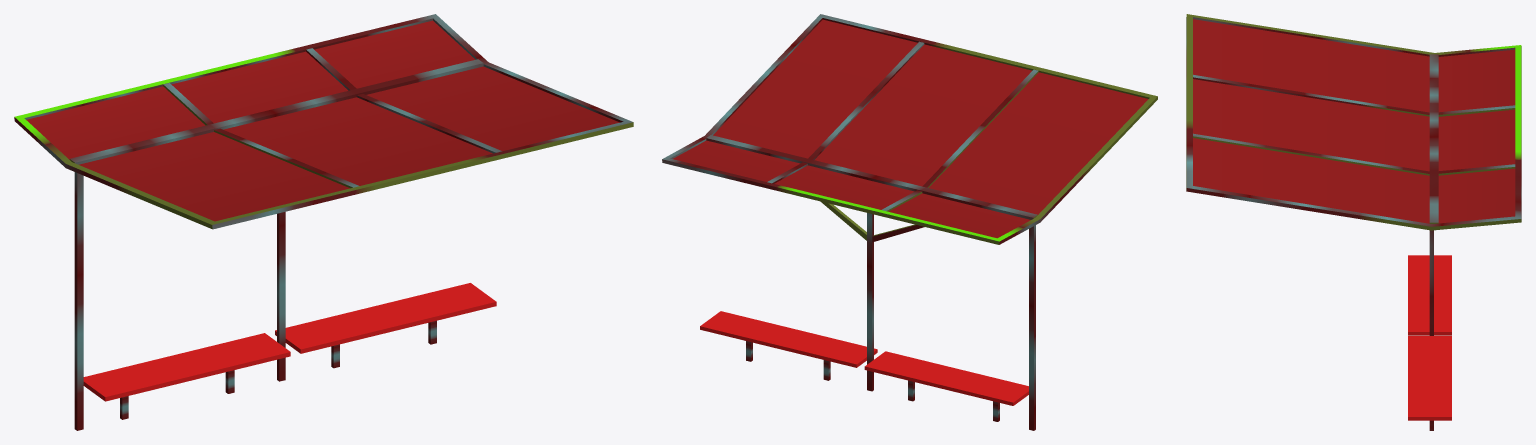
File: SM_Shed_v06.FBX
3 views of the same model, side by side, from view 1: azimuth 30°, elevation 25°; view 2: azimuth 150°, elevation 25°; view 3: azimuth 270°, elevation 25° (orthographic). The views are drawn at different scales.
Visible parts, largest first — view 1: Shed_v2; view 2: Shed_v2; view 3: Shed_v2.
Boxes of the visible parts, x1,y1,x2,y2 form: Shed_v2: (14,14,633,430); Shed_v2: (662,14,1157,430); Shed_v2: (1186,14,1521,430).
Size of the model in its own units: 6.02 by 4.28 by 4.91.
